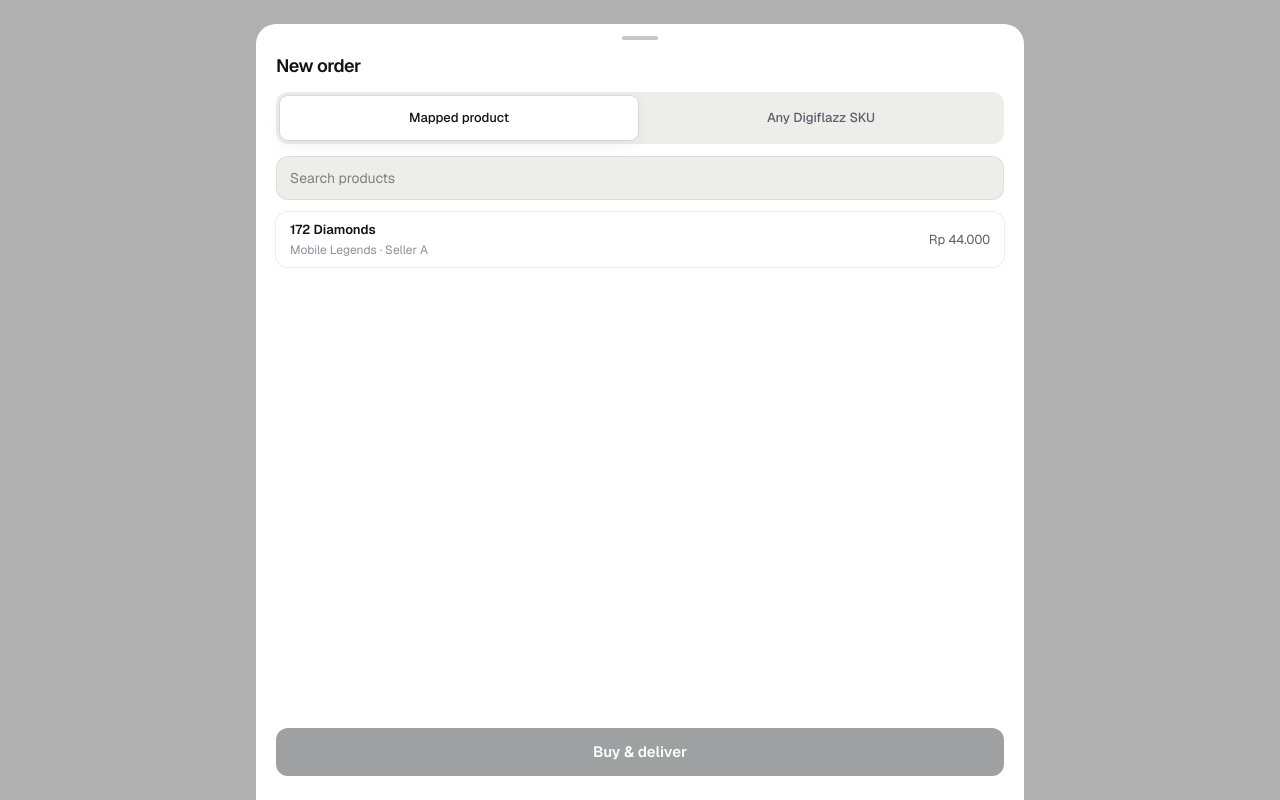
Test case: NewOrderSheet › rendersLiveCustomerNo
Click the button "172 Diamonds Mobile Legends · Seller A Rp 44.000" at [333, 230], box [276,212,1004,267]
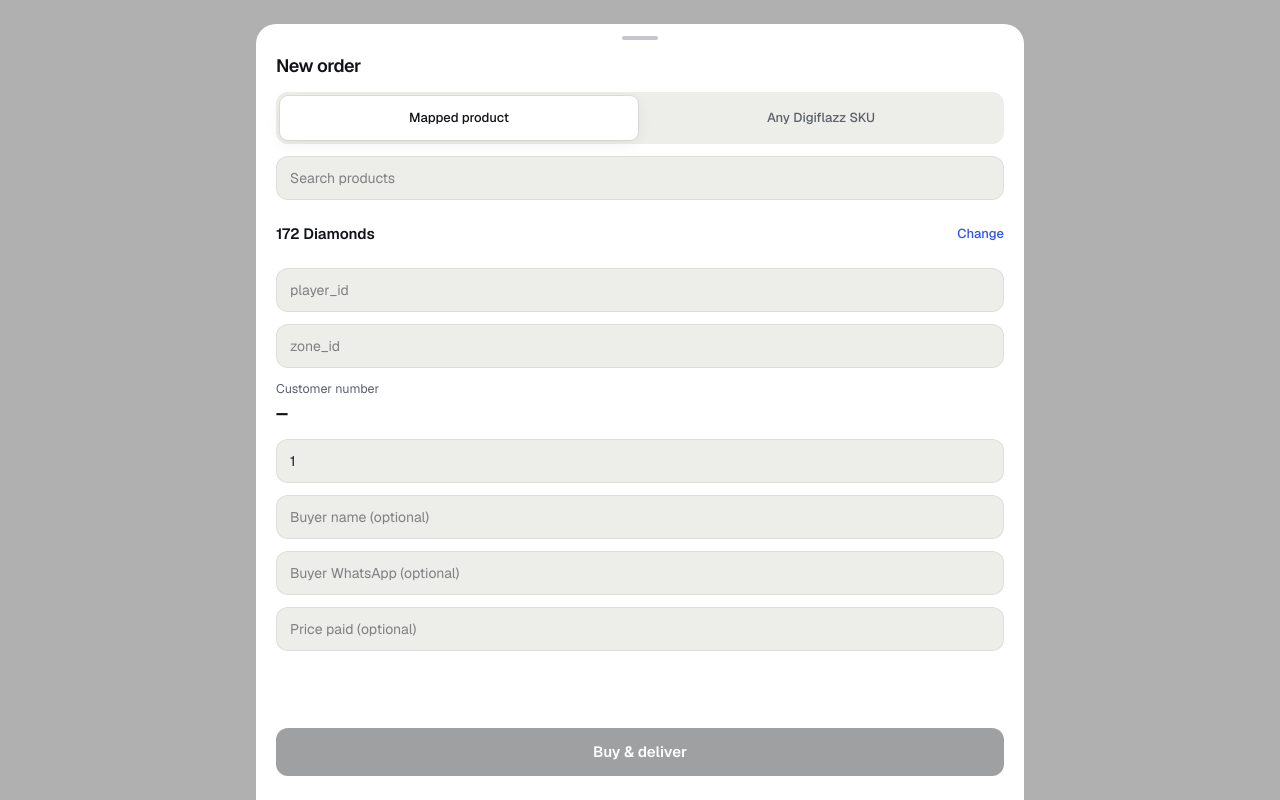
Type " 12345678 " into the field labelled "player_id" at [640, 290], box [276,268,1004,312]
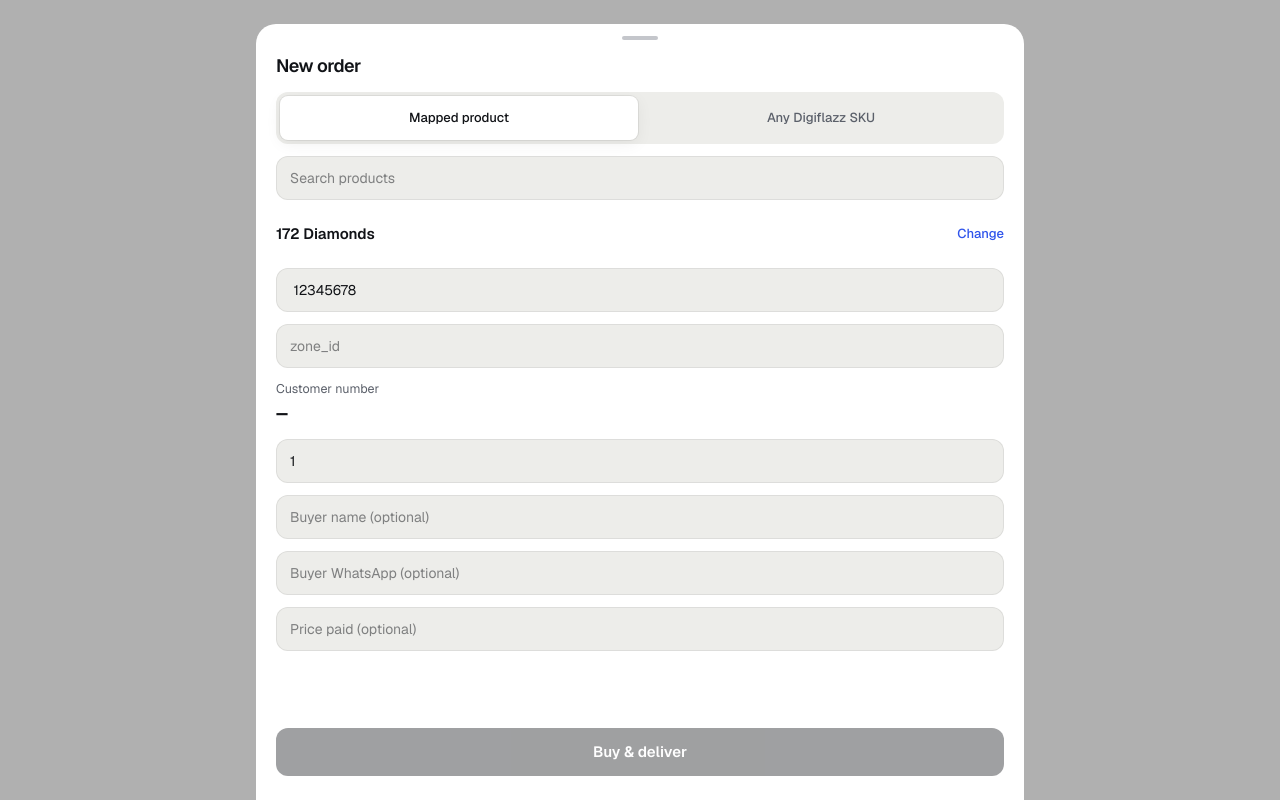
Type "1234" into the field labelled "zone_id" at [640, 346], box [276,324,1004,368]
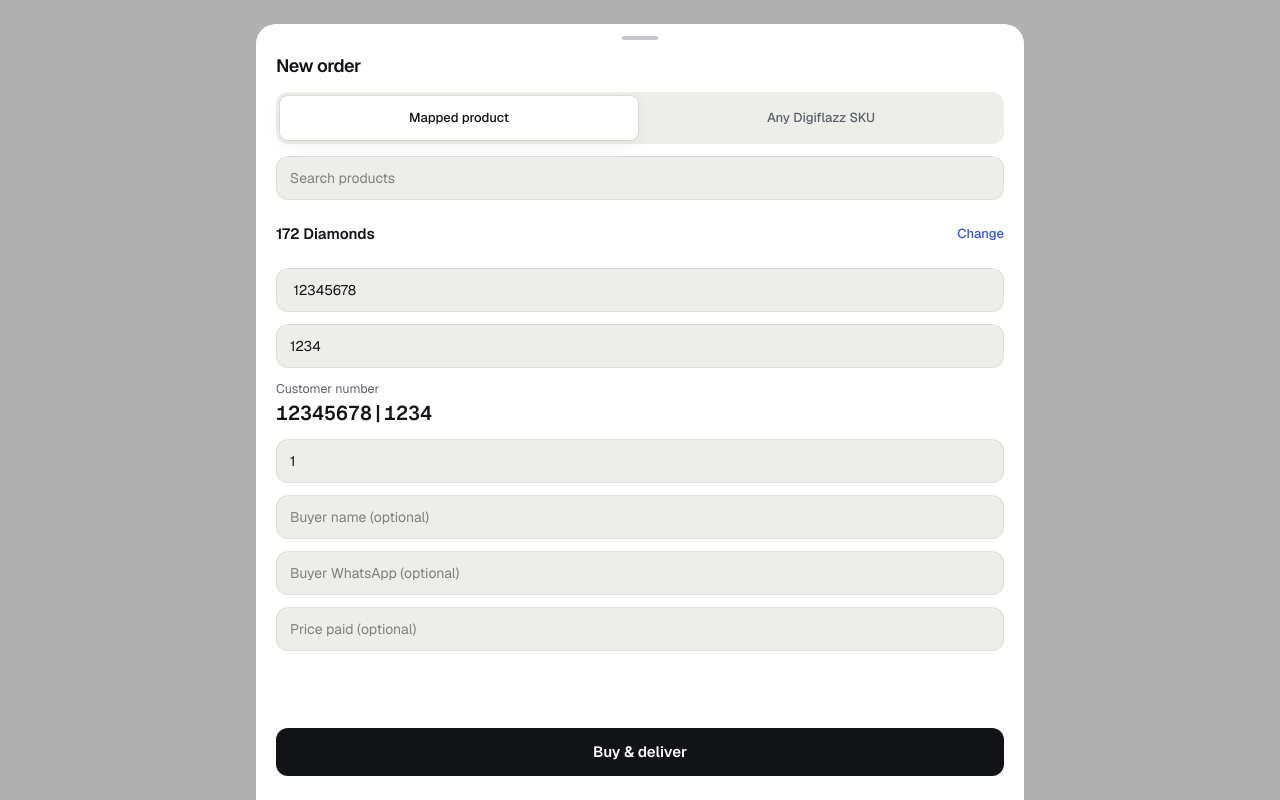
Now the text "12345678|1234" is shown, box [276,400,432,426]
